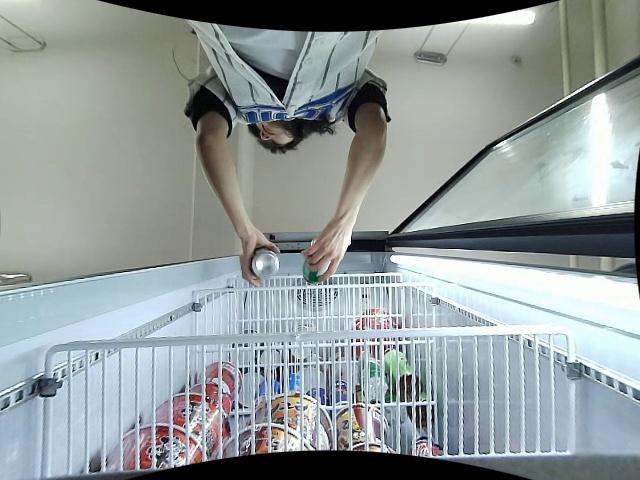00_hand: (238, 223, 283, 289), (301, 225, 352, 280)
12_chilsungCider: (302, 236, 331, 281), (248, 247, 279, 278)
